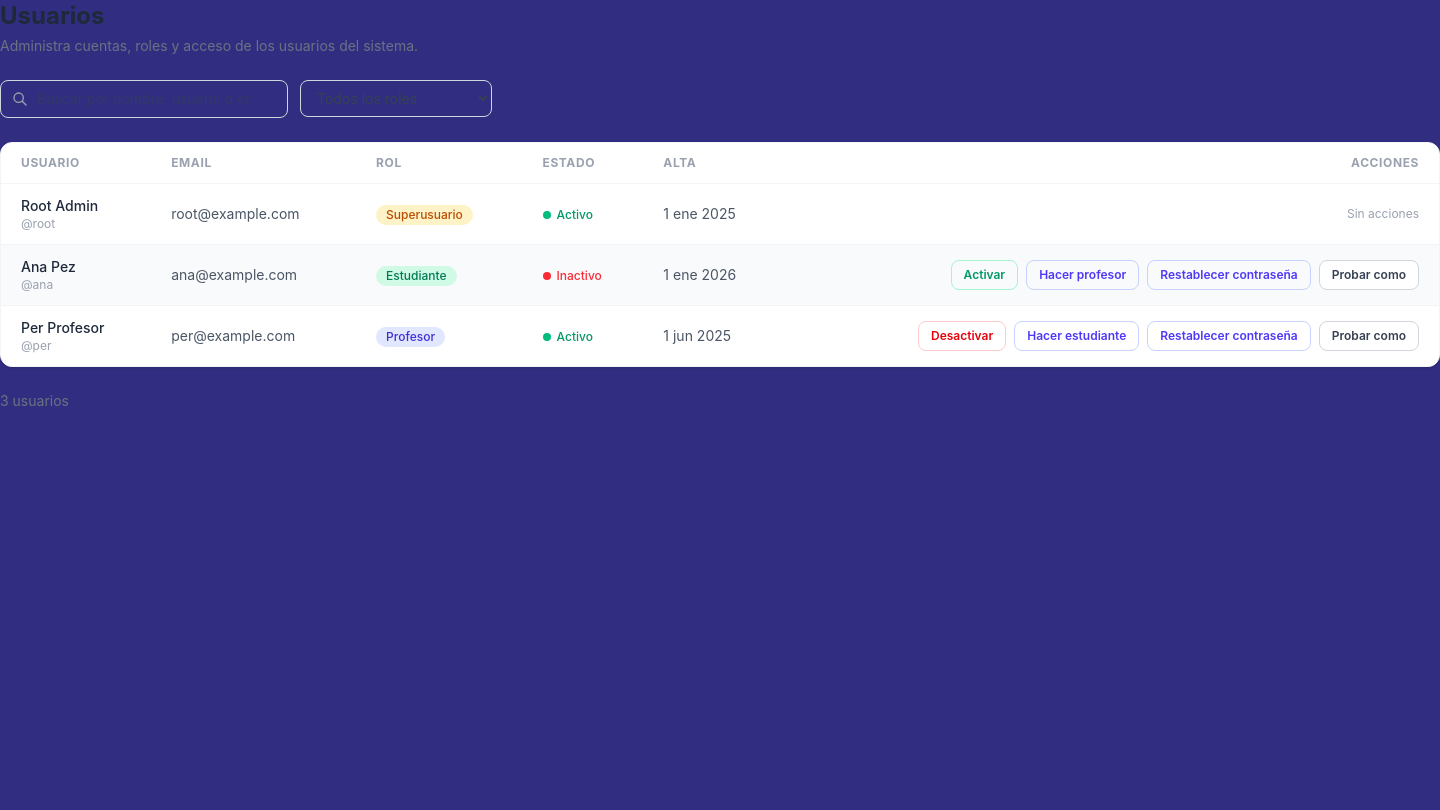
AdminUsersPage › no impersona al cancelar la confirmación
Click the text "Ana Pez" at (720, 275), box [1,244,1439,306]
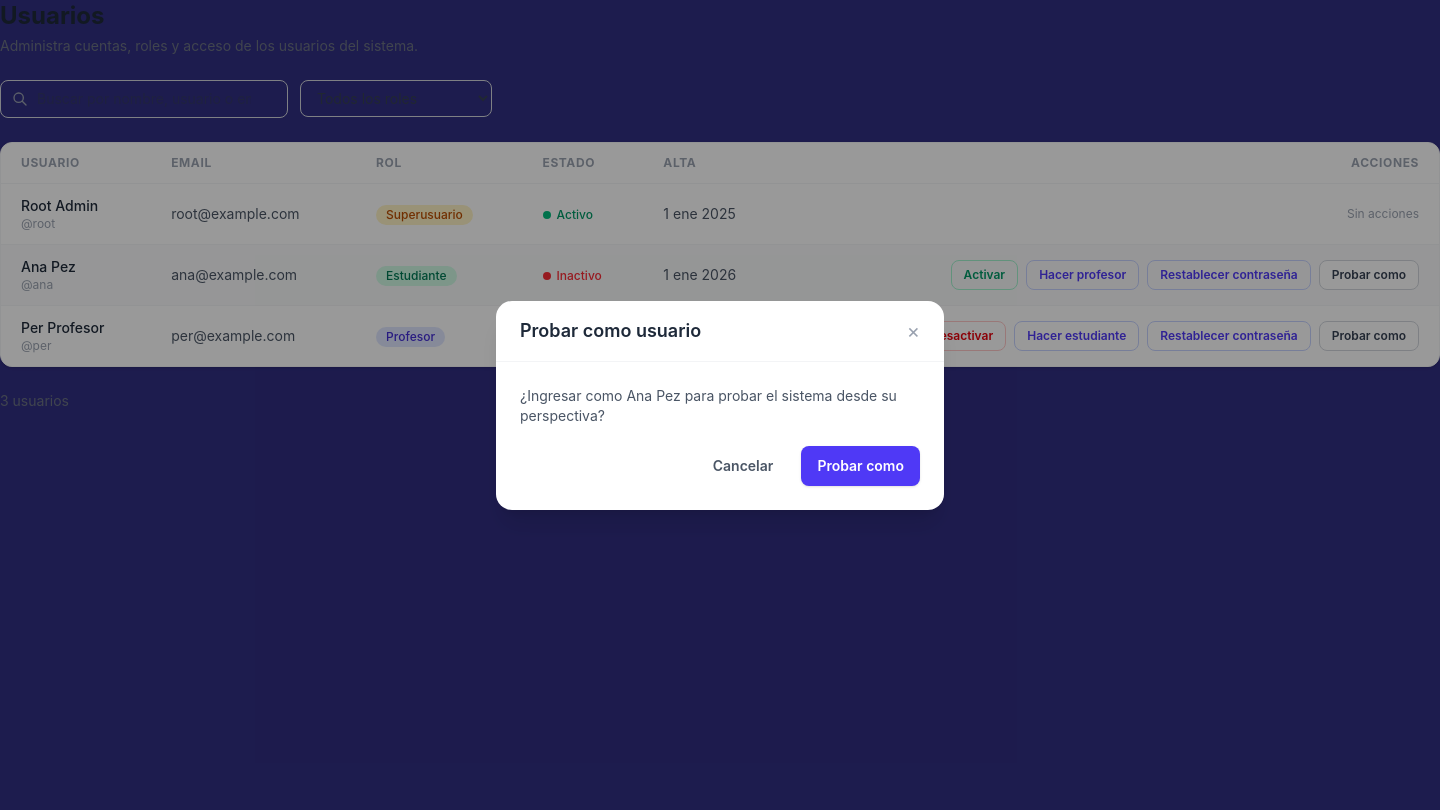
Click the button "Cancelar" at (743, 466), box [697,446,789,486]
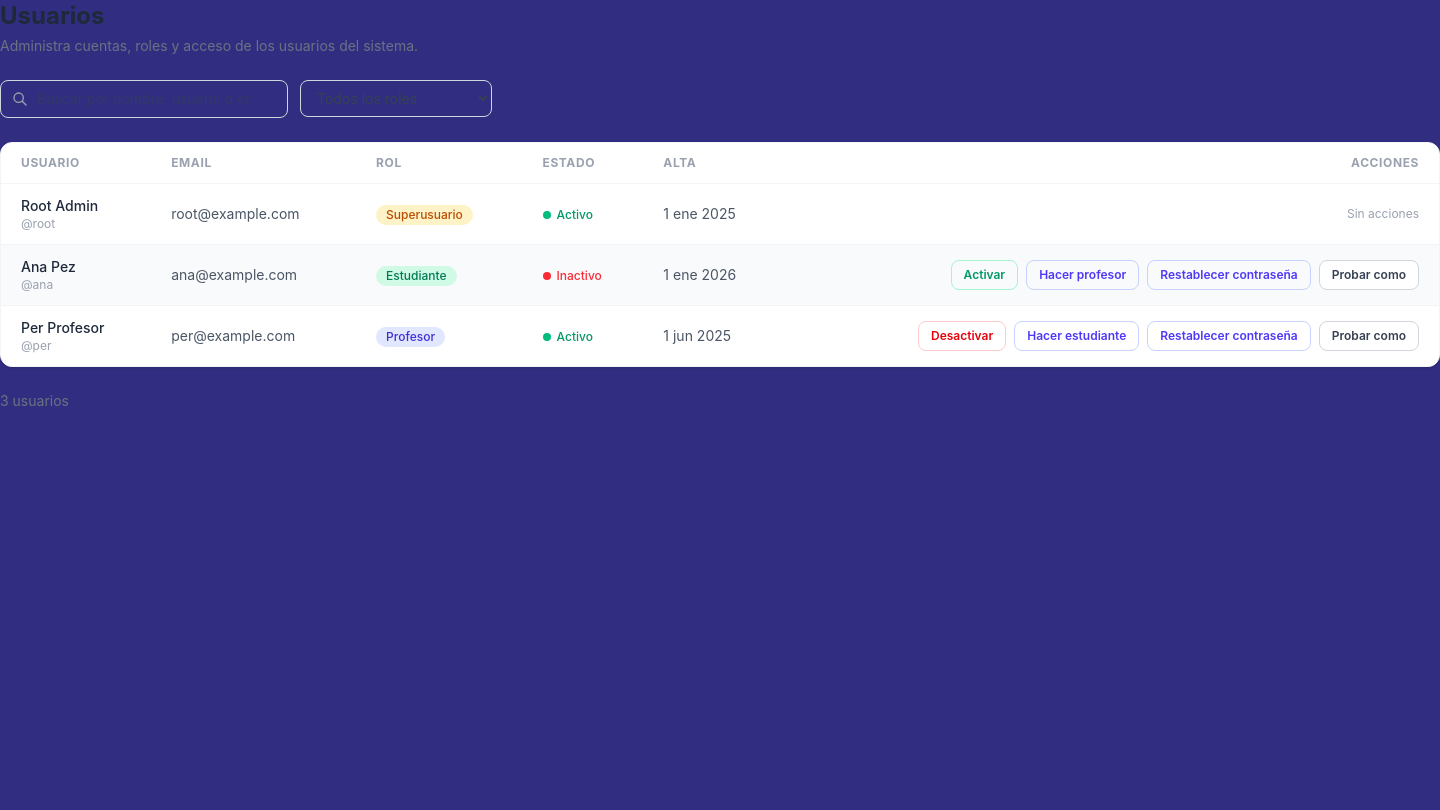
Check: the text "¿Ingresar como Ana Pez" is gone
